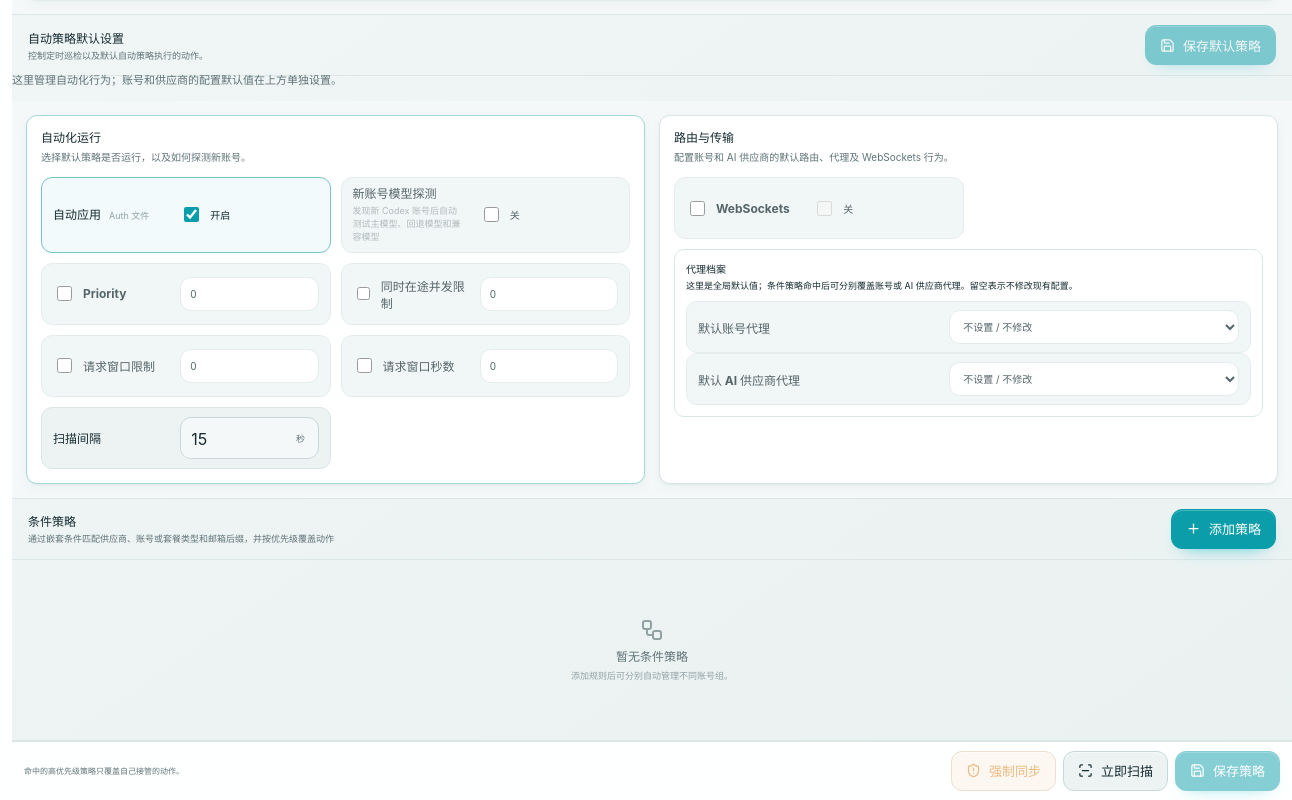
Test: AutomationPolicySettings › explains when conditional proxy actions cannot be enabled without a profile
(page scrolled)
Expected: the checkbox named "启用新账号模型探测" is shown, [484,207,499,222]
What coordinates should you click on to do the following:
click the button "添加策略"
I would click on:
 (1224, 528)
Its box is [1171,508,1276,548].
(page scrolled)
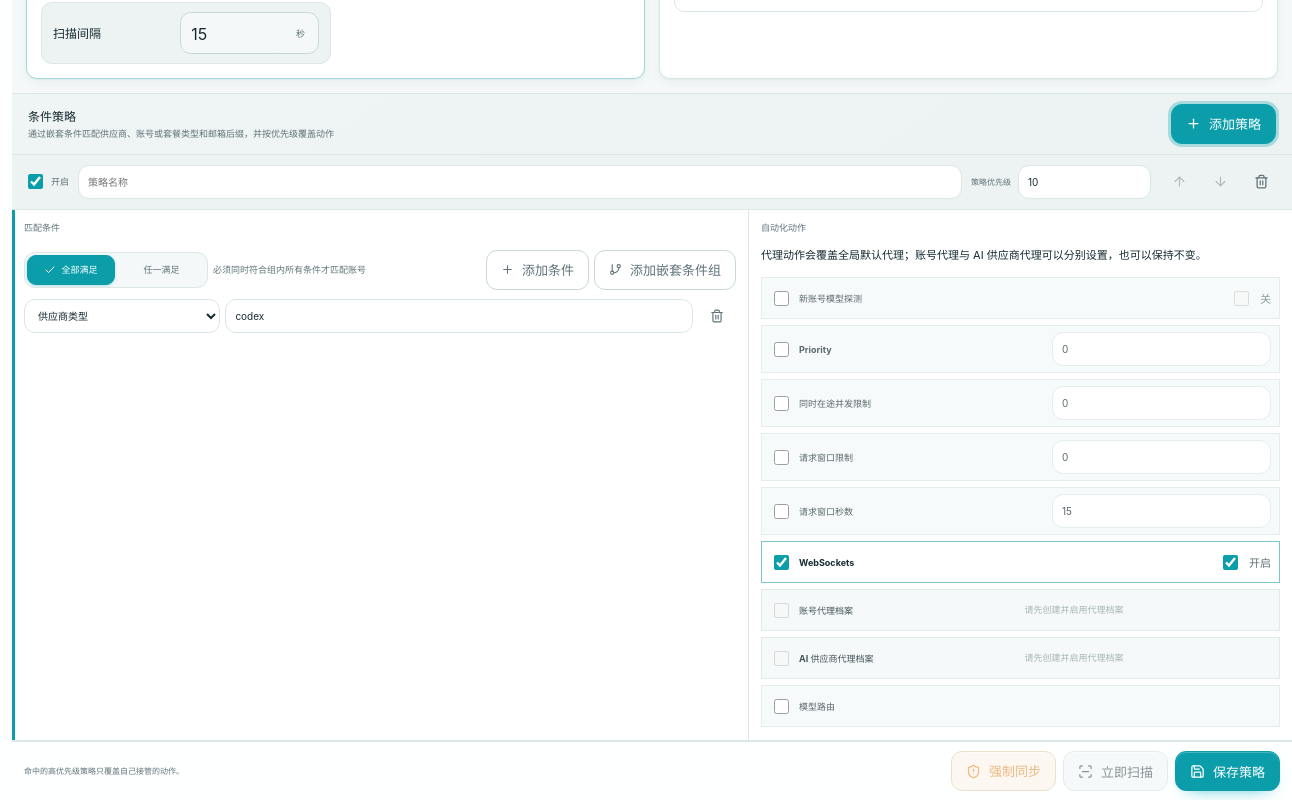
Result: the checkbox labelled "账号代理档案" is disabled at [774,603,789,618]
Result: the checkbox labelled "AI 供应商代理档案" is disabled at [774,651,789,666]
Result: the text "请先创建并启用代理档案" is shown 2 times at [1024,604,1124,615]; [1024,652,1124,663]
